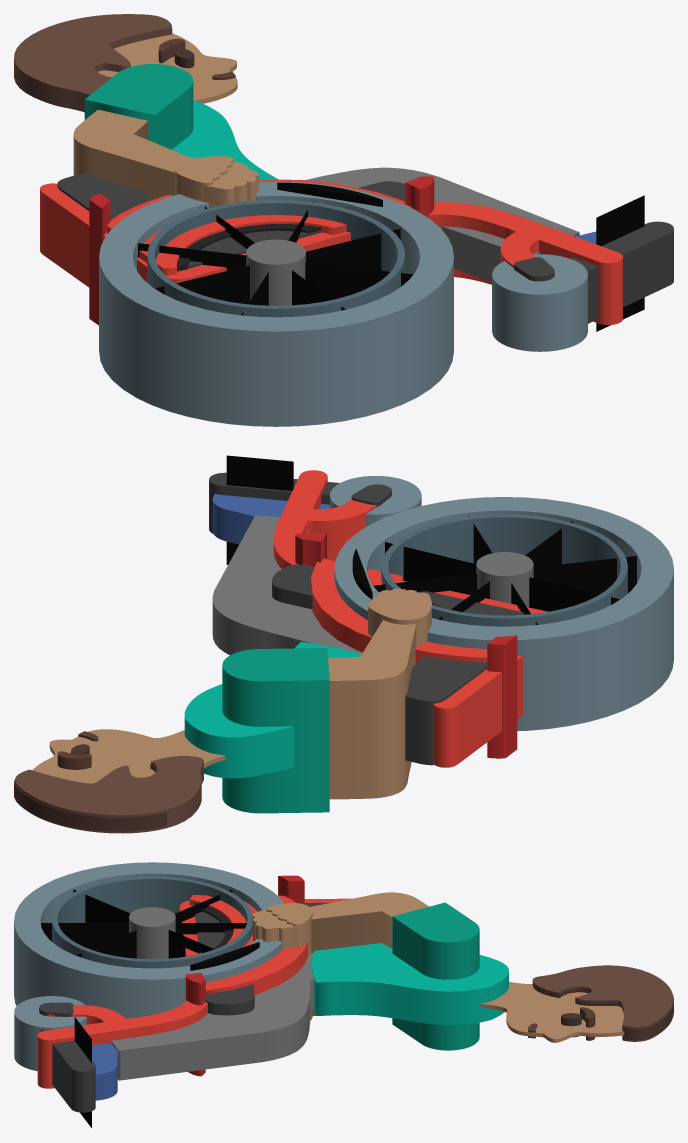
Rendered from emoji_u1f468_1f3fd_200d_1f9bd_200d_27a1.glb.
3 renders of one model, top to bottom at view 1: azimuth 30°, elevation 25°; view 2: azimuth 150°, elevation 25°; view 3: azimuth 270°, elevation 25°, orthographic. The views are drawn at different scales.
Visible parts, largest first — view 1: emoji_u1f468_1f3fd_200d_1f9bd_200d_27a1; view 2: emoji_u1f468_1f3fd_200d_1f9bd_200d_27a1; view 3: emoji_u1f468_1f3fd_200d_1f9bd_200d_27a1.
Part boxes in pixels (left/top/right/bottom): emoji_u1f468_1f3fd_200d_1f9bd_200d_27a1: left=14, top=14, right=673, bottom=426; emoji_u1f468_1f3fd_200d_1f9bd_200d_27a1: left=14, top=455, right=673, bottom=833; emoji_u1f468_1f3fd_200d_1f9bd_200d_27a1: left=14, top=862, right=673, bottom=1127.
Size of the model in its own units: 0.0222 by 0.0058 by 0.0321.
